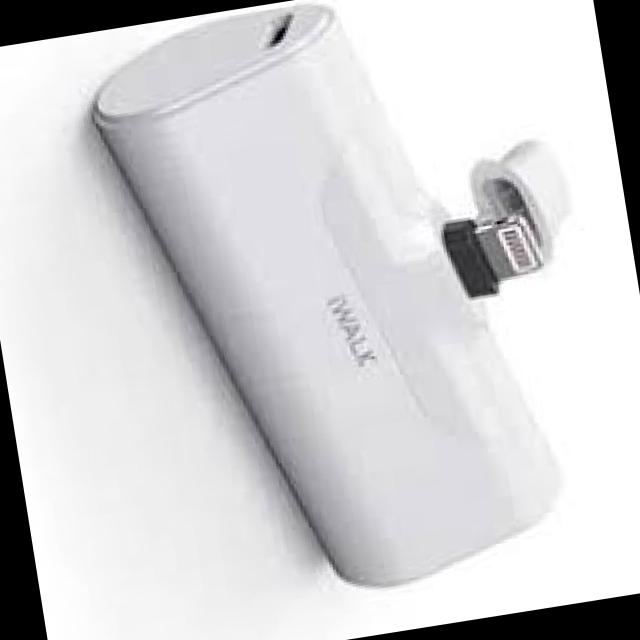portable-charger: (75, 0, 620, 624)
